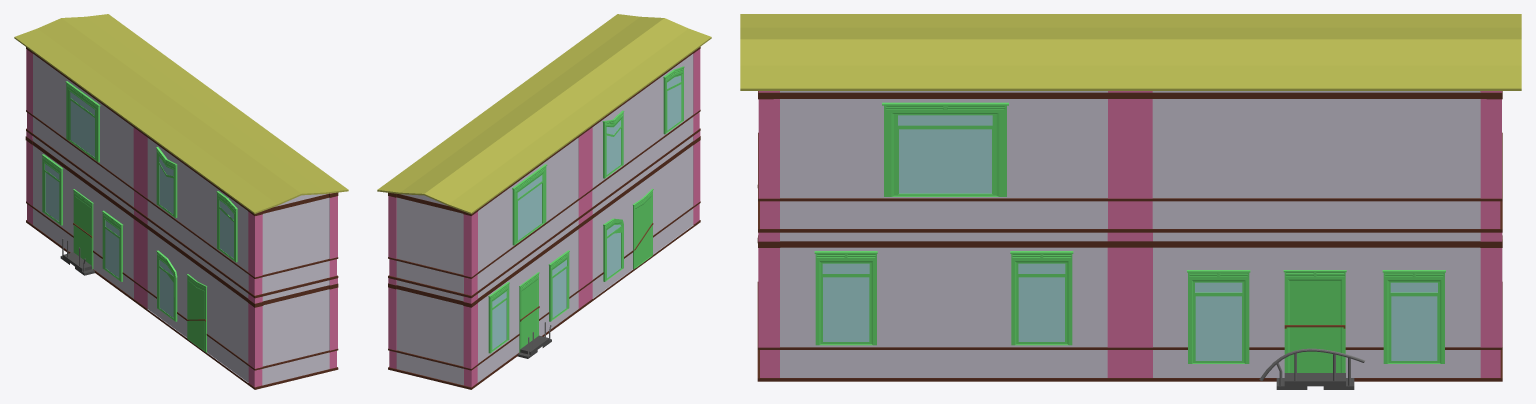
Rendered from House_structure_00_V8.fbx.
3 renders of one model, left to right at view 1: azimuth 30°, elevation 25°; view 2: azimuth 150°, elevation 25°; view 3: azimuth 270°, elevation 25°, orthographic. The views are drawn at different scales.
Visible parts, largest first — view 1: House_structure_00.028; view 2: House_structure_00.028; view 3: House_structure_00.028.
Part boxes in pixels (<box>): House_structure_00.028: <box>14,14,348,389</box>; House_structure_00.028: <box>377,14,711,389</box>; House_structure_00.028: <box>740,14,1521,389</box>.
Size of the model in its own units: 310 by 534 by 1224.
